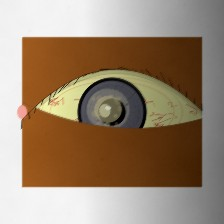corneal_ulcer: (86, 91, 130, 127)
